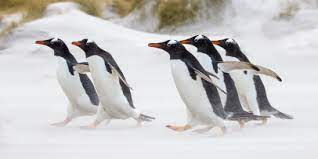Walking: (155, 19, 298, 144), (28, 23, 148, 142)
